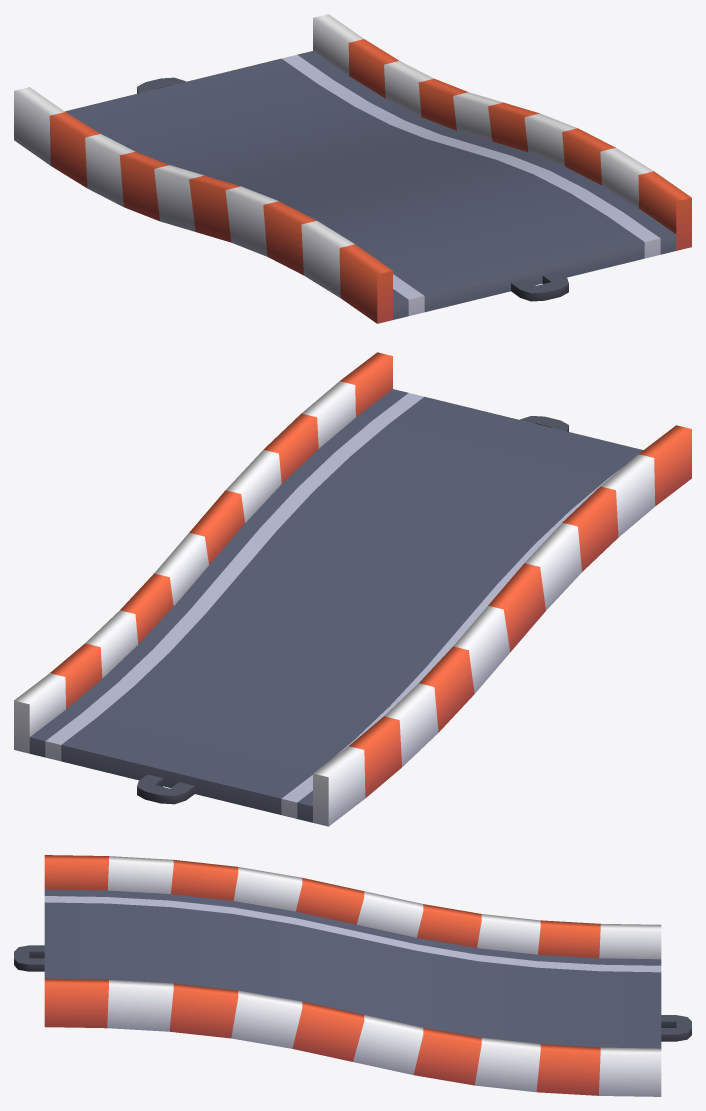
Rendered from kenney-toy-car-track-road-wide-straight-hill-complete-half.glb.
3 views of the same model, one above another, from view 1: azimuth 30°, elevation 25°; view 2: azimuth 150°, elevation 25°; view 3: azimuth 270°, elevation 25° (orthographic). The views are drawn at different scales.
Visible parts, largest first — view 1: track-road-wide-straight-hill-complete-half; view 2: track-road-wide-straight-hill-complete-half; view 3: track-road-wide-straight-hill-complete-half.
Part boxes in pixels (bbox=[...]): track-road-wide-straight-hill-complete-half: bbox=[14, 14, 691, 323]; track-road-wide-straight-hill-complete-half: bbox=[14, 352, 691, 826]; track-road-wide-straight-hill-complete-half: bbox=[14, 855, 691, 1096].
Size of the model in its own units: 2 by 0.7998 by 4.4.
Materials: 1 (1 with a texture image).
